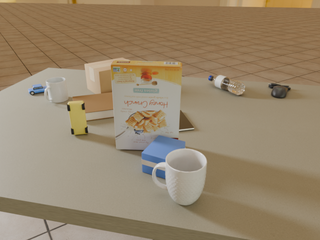book: (73, 92, 114, 121)
bottle: (209, 75, 245, 95)
box: (110, 60, 182, 150), (142, 135, 185, 179), (85, 58, 127, 94)
cup: (152, 148, 207, 205), (44, 77, 69, 103)
mouse: (268, 83, 291, 98)
phone: (179, 110, 194, 131)
toy_car: (67, 101, 88, 135), (28, 84, 47, 95)
